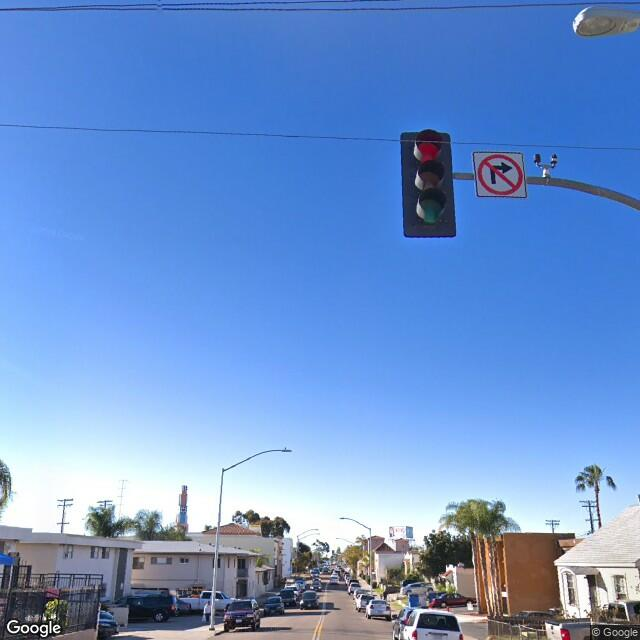light: (566, 5, 640, 40)
